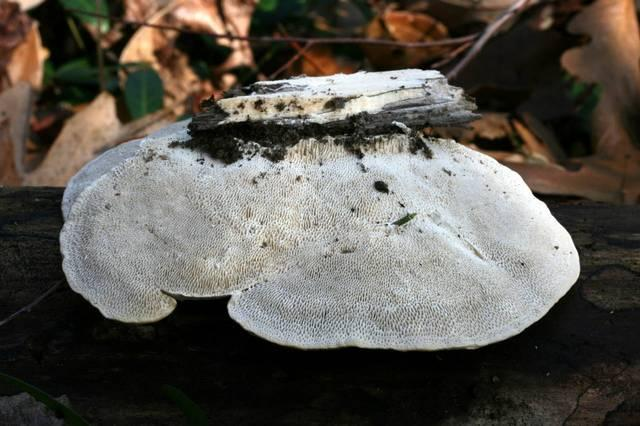poisonous_mushroom: (57, 66, 582, 353)
